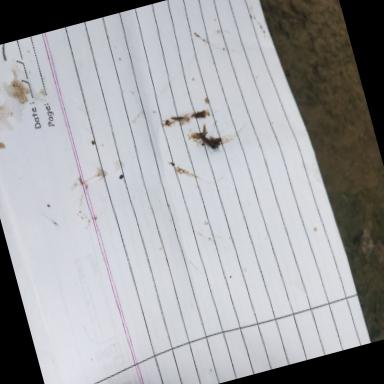pbw: (178, 115, 191, 126)
